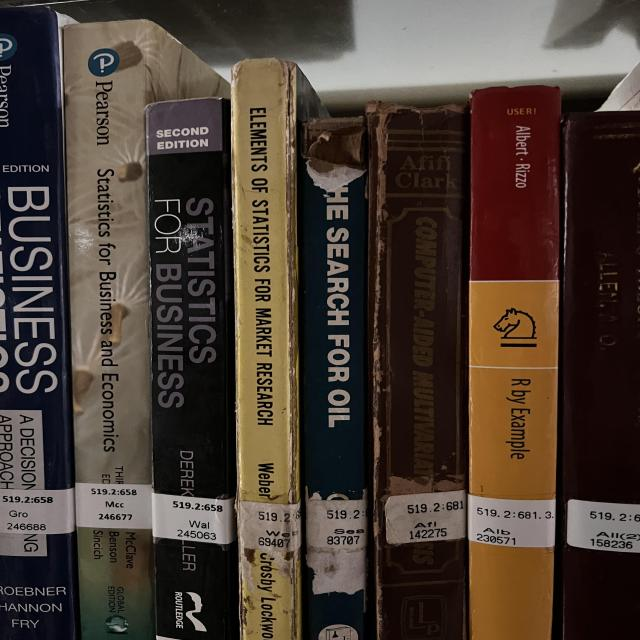Book: (63, 20, 228, 640), (367, 102, 468, 640), (232, 59, 323, 640), (468, 85, 562, 640), (0, 8, 78, 640), (147, 99, 238, 640), (562, 111, 640, 640), (300, 119, 368, 640)
Label: (468, 495, 555, 548), (385, 490, 467, 544), (152, 492, 237, 544), (567, 499, 640, 552), (75, 482, 152, 529), (0, 489, 75, 535), (238, 501, 300, 552), (307, 499, 367, 550)
